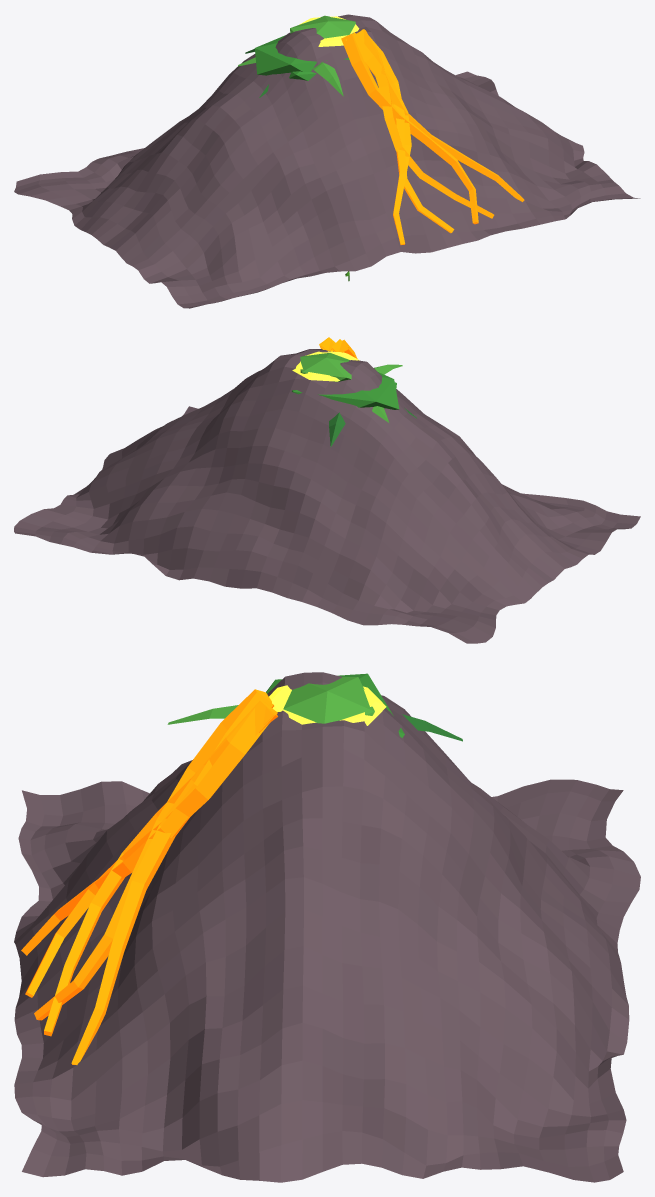
Rendered from models.glb.
3 views of the same model, one above another, from view 1: azimuth 30°, elevation 25°; view 2: azimuth 150°, elevation 25°; view 3: azimuth 270°, elevation 25° (orthographic). The views are drawn at different scales.
Visible parts, largest first — view 1: Volcano_Mesh, TreeA_Mesh, TreeB_Mesh; view 2: Volcano_Mesh, TreeA_Mesh, TreeB_Mesh; view 3: Volcano_Mesh, TreeA_Mesh, TreeB_Mesh.
Boxes of the visible parts, box(x1,y1,x2,y2) form: Volcano_Mesh: box(14, 14, 640, 308); TreeA_Mesh: box(254, 15, 358, 80); TreeB_Mesh: box(238, 49, 343, 97); Volcano_Mesh: box(14, 337, 640, 643); TreeA_Mesh: box(292, 353, 399, 409); TreeB_Mesh: box(329, 364, 416, 447); Volcano_Mesh: box(14, 672, 640, 1182); TreeA_Mesh: box(266, 673, 404, 737); TreeB_Mesh: box(167, 705, 462, 741).
Bounding box in the file's own units: 12.61 × 6.22 × 8.33.
